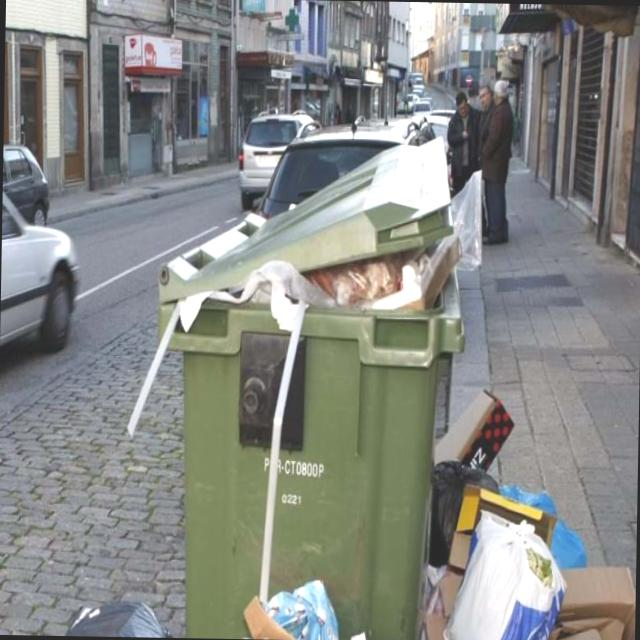garbage: (105, 162, 640, 640)
